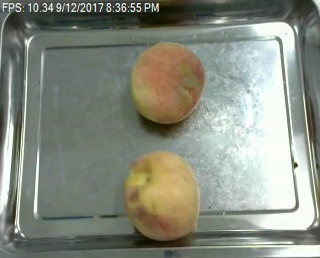Peach: (124, 150, 199, 241), (130, 40, 205, 124)
